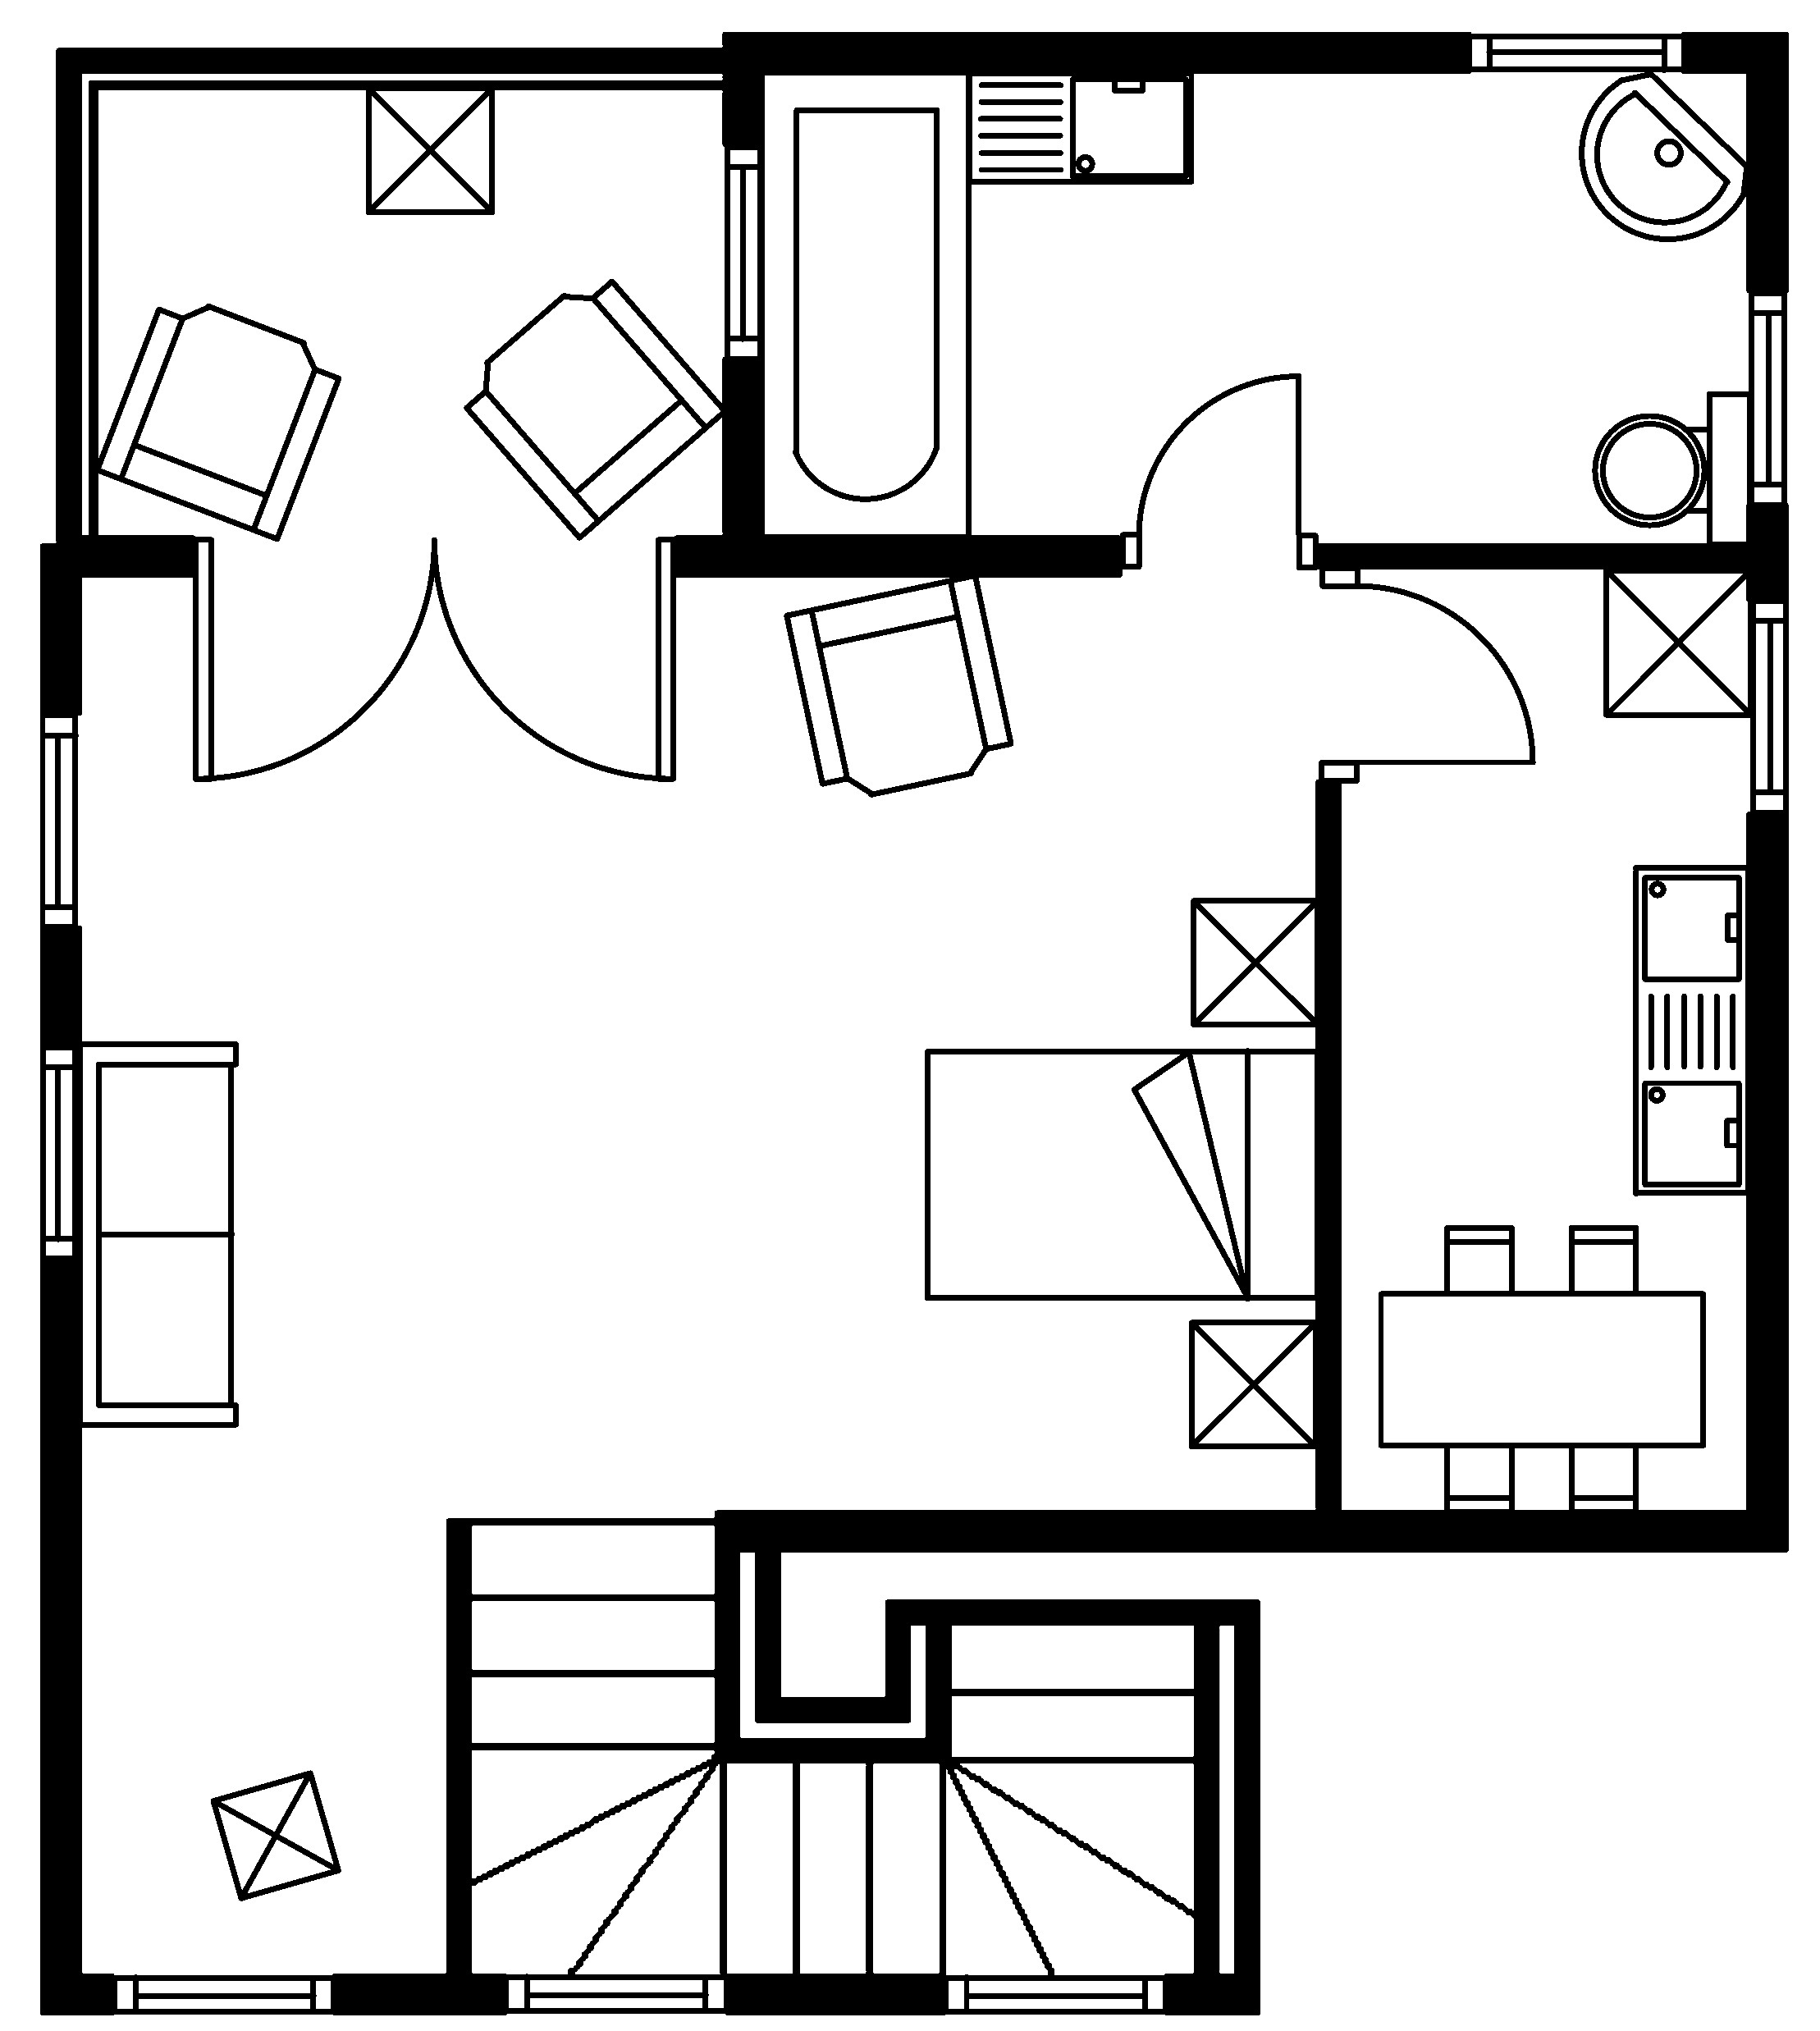armchair: (462, 276, 727, 541), (93, 302, 341, 543), (782, 571, 1014, 798)
bed: (922, 1047, 1321, 1302)
coffee_table: (1602, 566, 1753, 719), (1186, 1318, 1319, 1449), (209, 1769, 341, 1901), (1189, 896, 1321, 1028), (364, 84, 495, 214)
dining_table: (1376, 1223, 1706, 1516)
large_sink: (1592, 388, 1753, 548)
large_sofa: (76, 1040, 239, 1428)
sink: (964, 69, 1195, 184)
small_sink: (1578, 70, 1750, 241)
tub: (757, 69, 971, 539)
twin_sink: (1630, 863, 1750, 1196)
